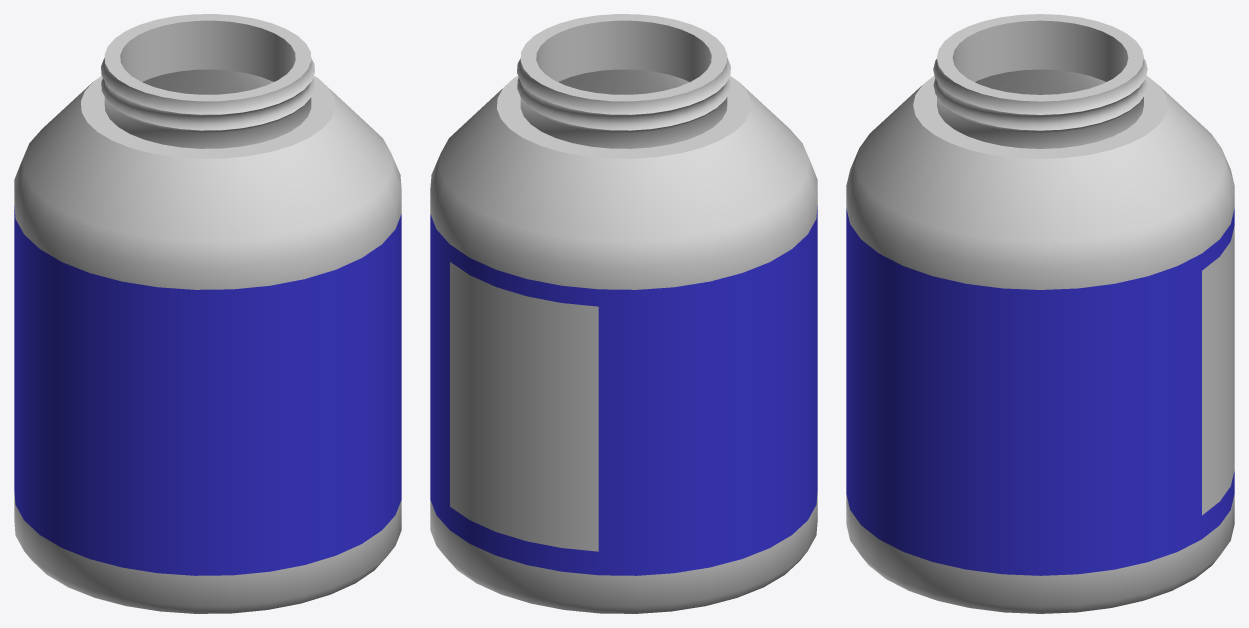
The model's file is pillBottle.fbx.
3 renders of one model, left to right at view 1: azimuth 30°, elevation 25°; view 2: azimuth 150°, elevation 25°; view 3: azimuth 270°, elevation 25°, orthographic.
Parts seen in each view (by area): view 1: Pill Bottle; view 2: Pill Bottle; view 3: Pill Bottle.
Boxes of the visible parts, x1=… form: Pill Bottle: x1=14, y1=14, x2=401, y2=613; Pill Bottle: x1=430, y1=14, x2=817, y2=613; Pill Bottle: x1=846, y1=14, x2=1234, y2=613.
Bounding box in the file's own units: 200 × 272 × 200.
